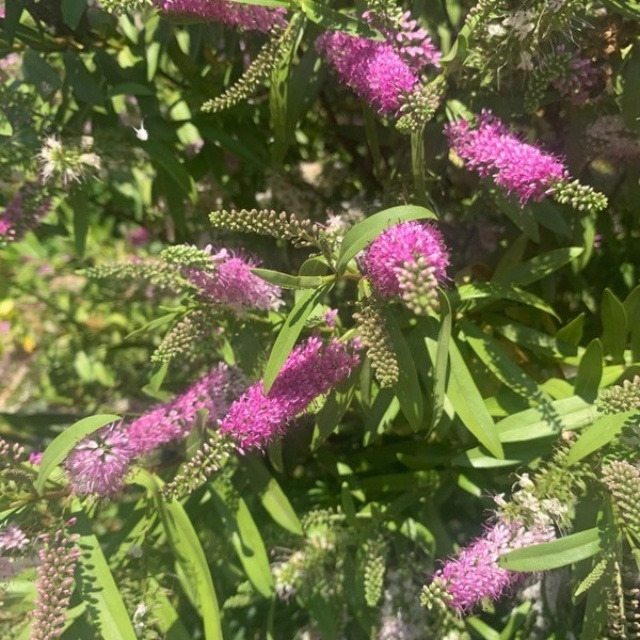obstacle: (60, 157, 481, 529)
